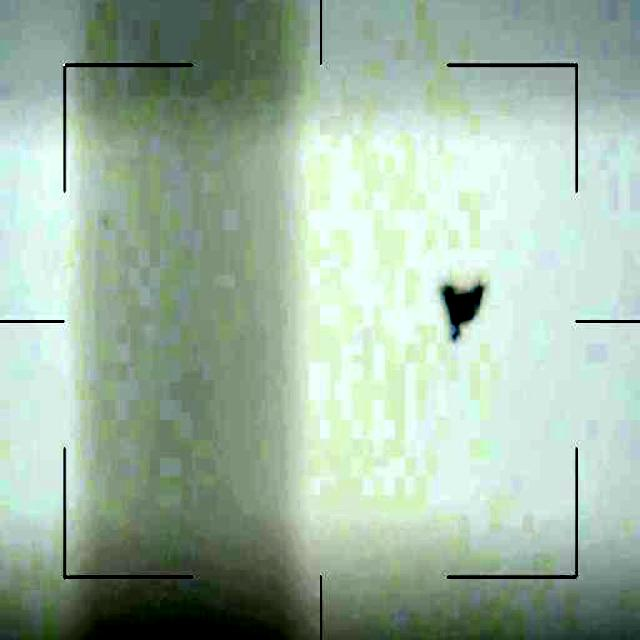bird: (440, 264, 491, 346)
